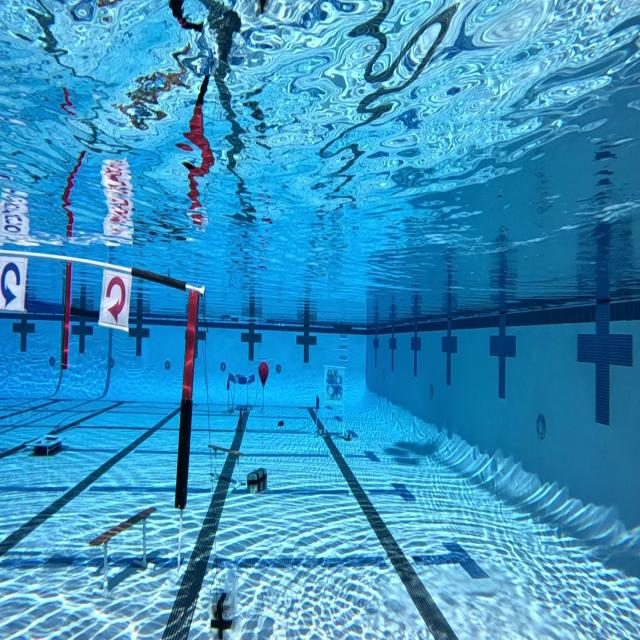blue_side: (0, 261, 28, 320)
red_side: (101, 268, 132, 333)
